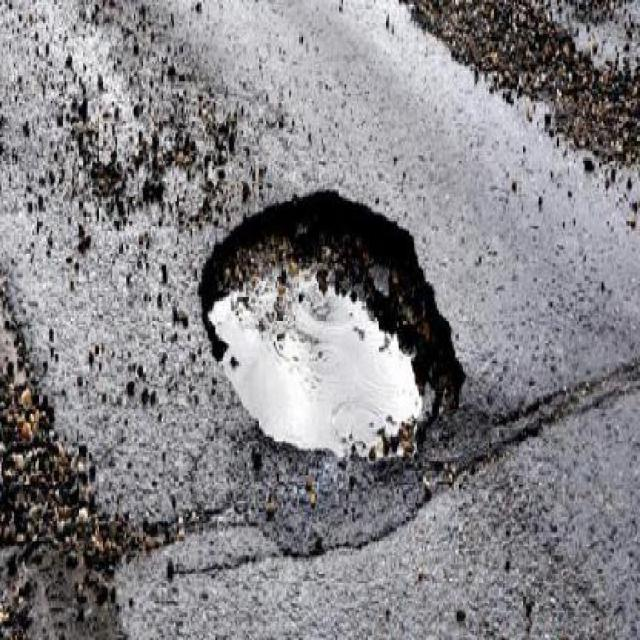pothole: (193, 179, 471, 462)
